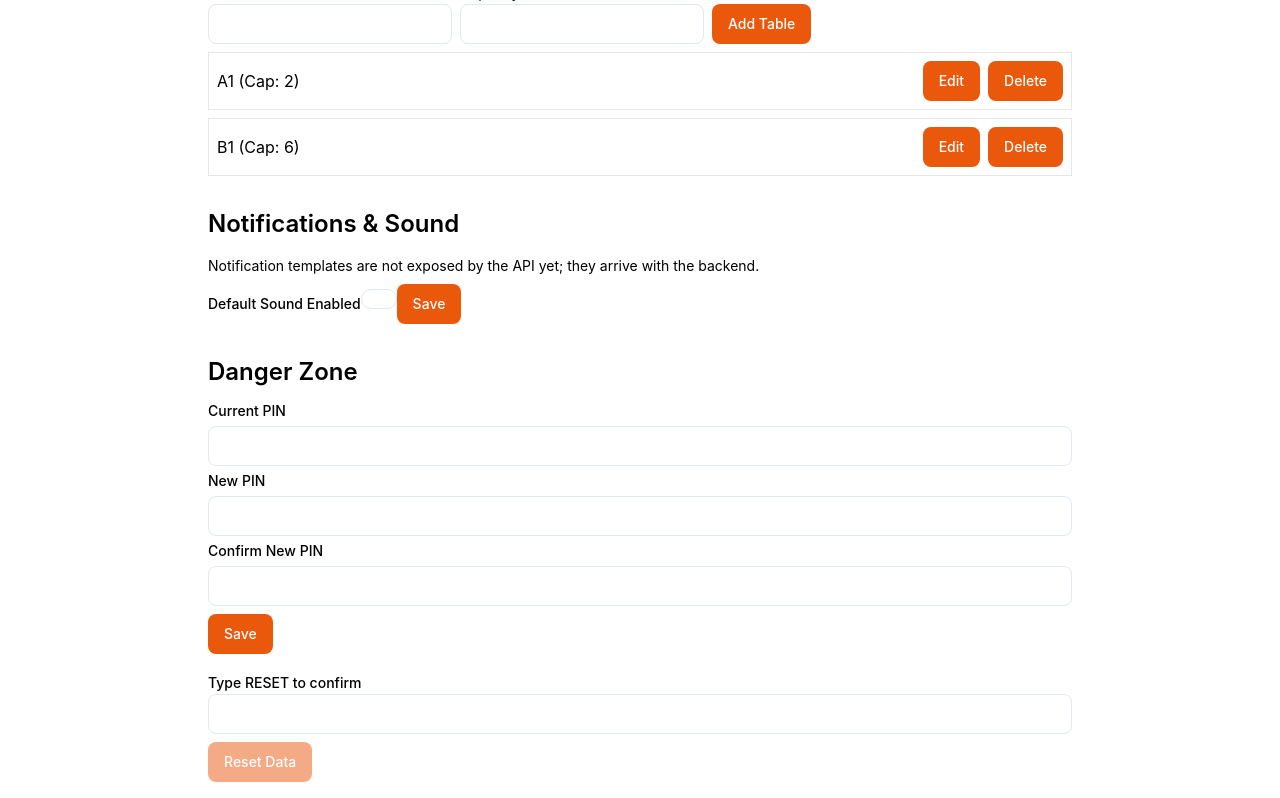
Test: danger zone › does not submit a PIN whose confirmation differs
This screenshot has width=1280, height=798.
(page scrolled)
Type "1111" into the password field with test id "pin-input" at (640, 446), box [208,426,1072,466]
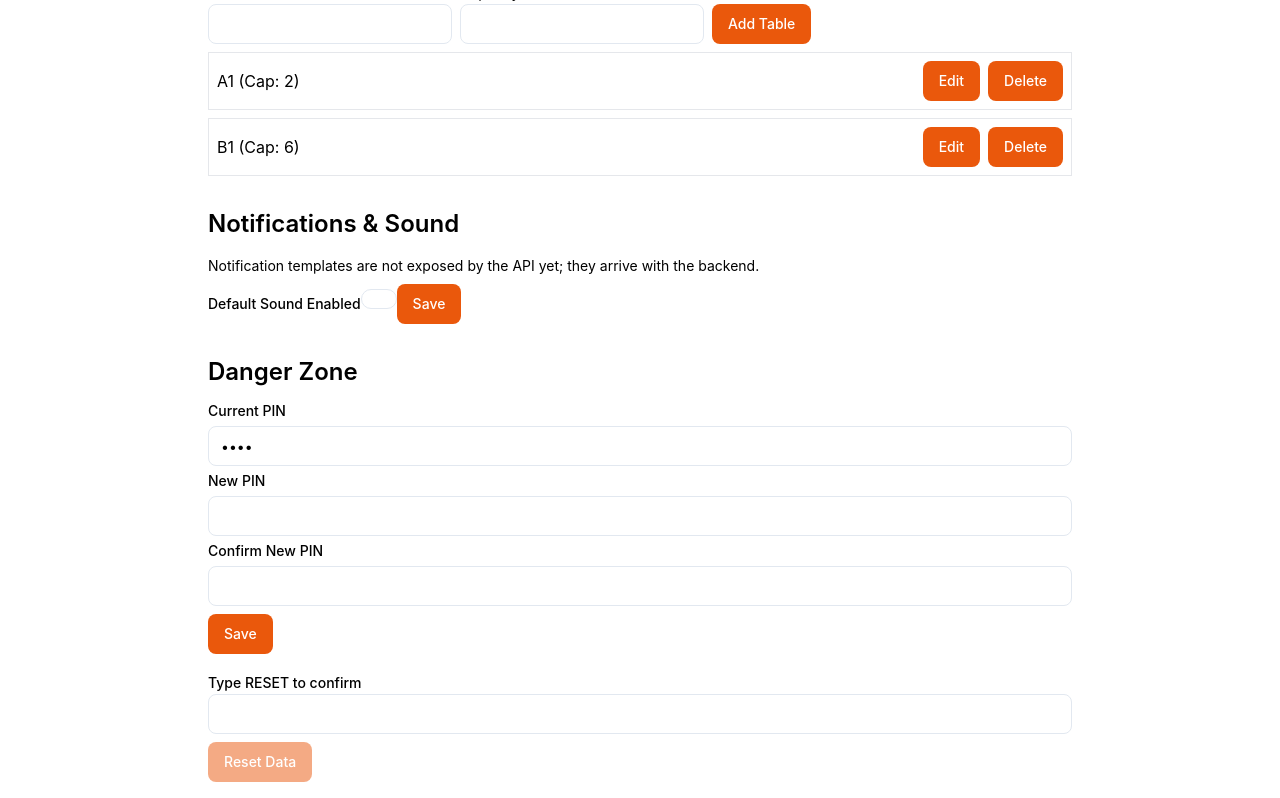
Type "2222" into the password field with test id "pin-input" at (640, 516), box [208,496,1072,536]
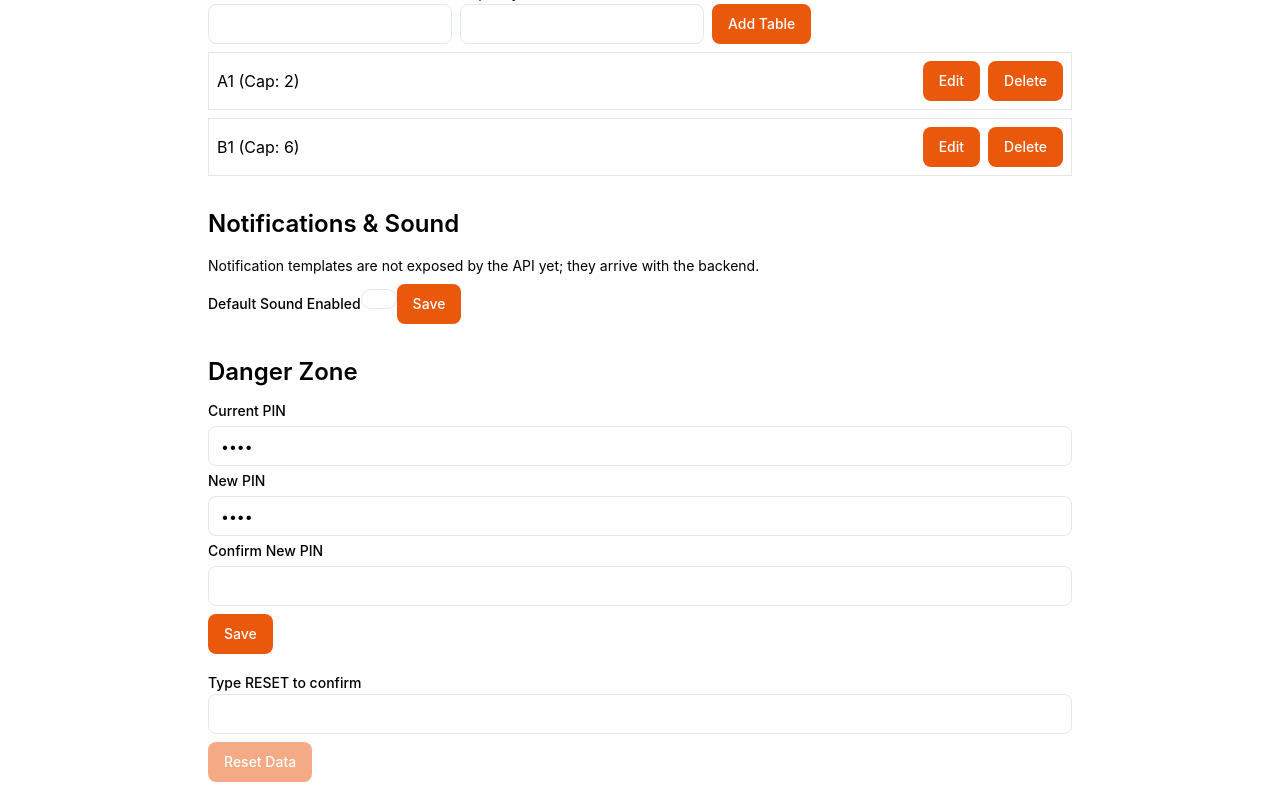
Type "3333" into the password field with test id "pin-input" at (640, 586), box [208,566,1072,606]
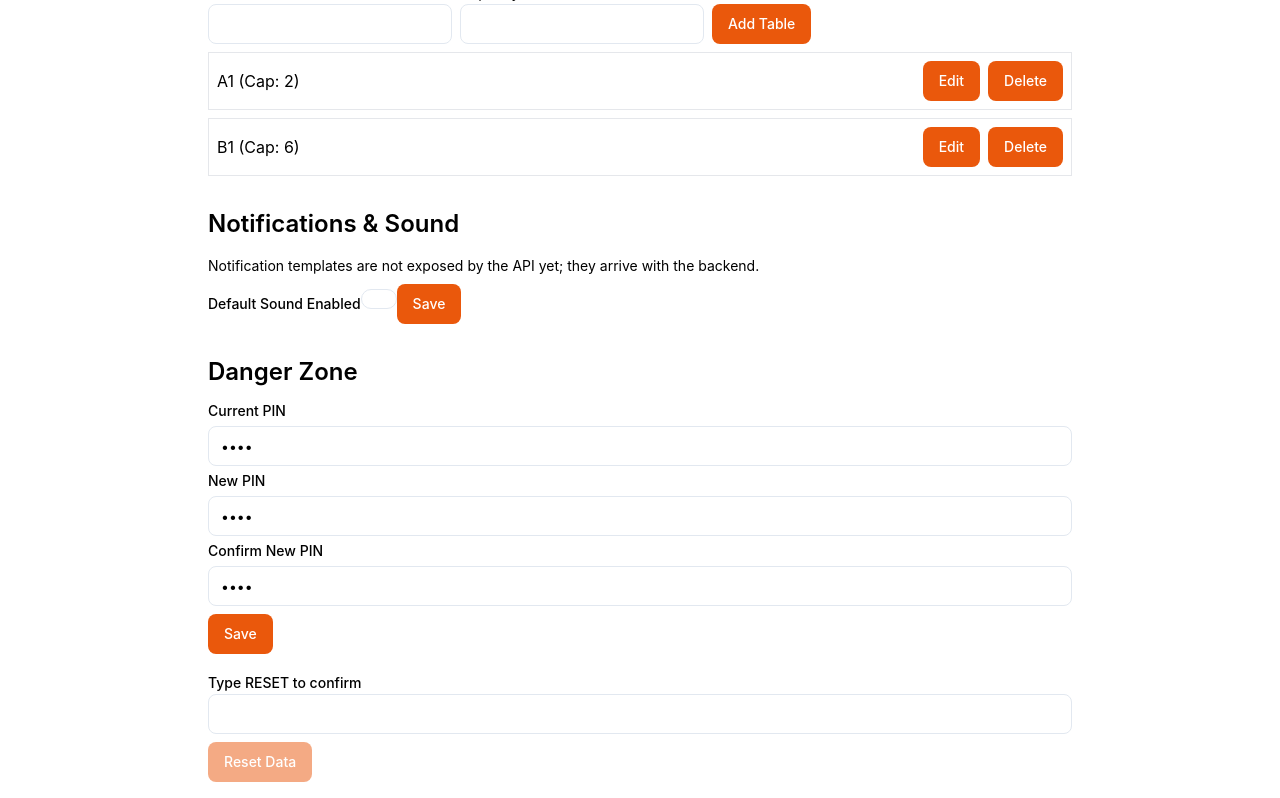
Click the button with test id "change-pin-button" at (240, 634), box [208,614,273,654]
(page scrolled)
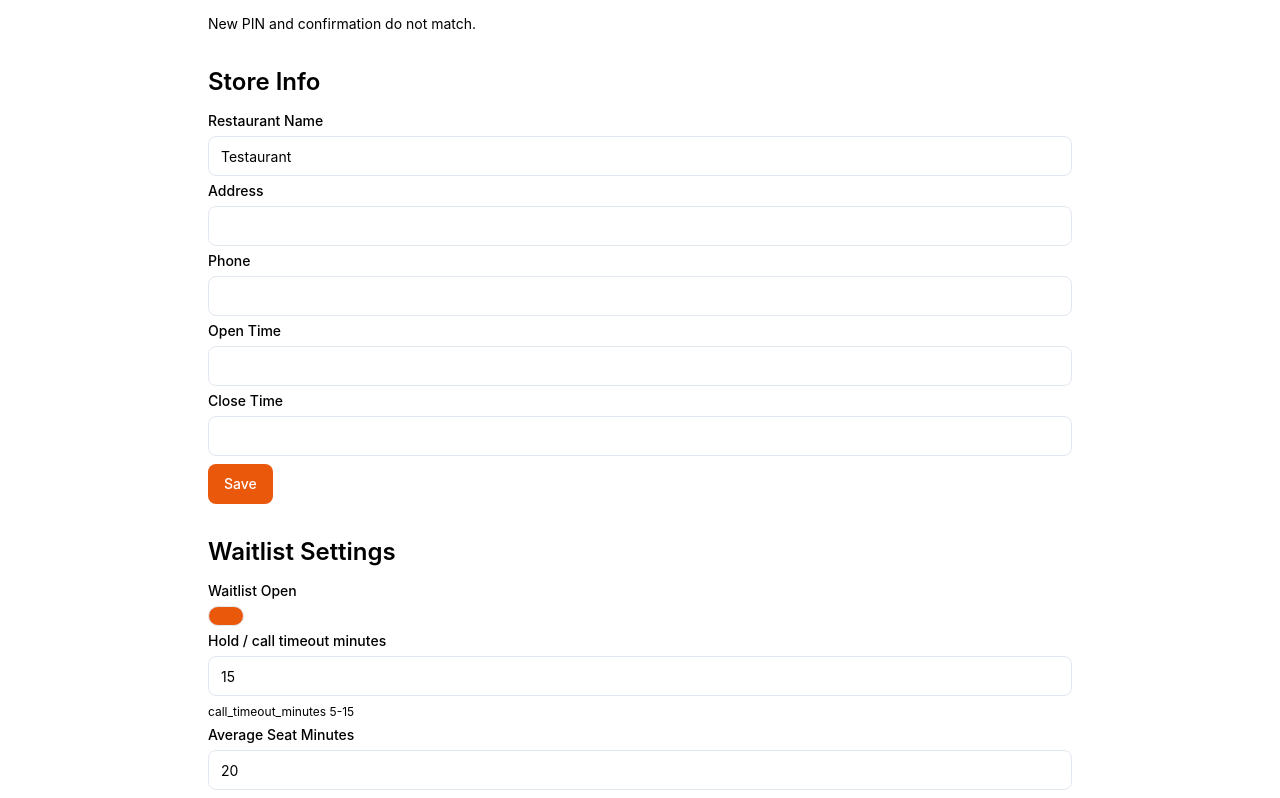
Expected: the text "New PIN and confirmation do not match." is shown, [208,15,476,32]
